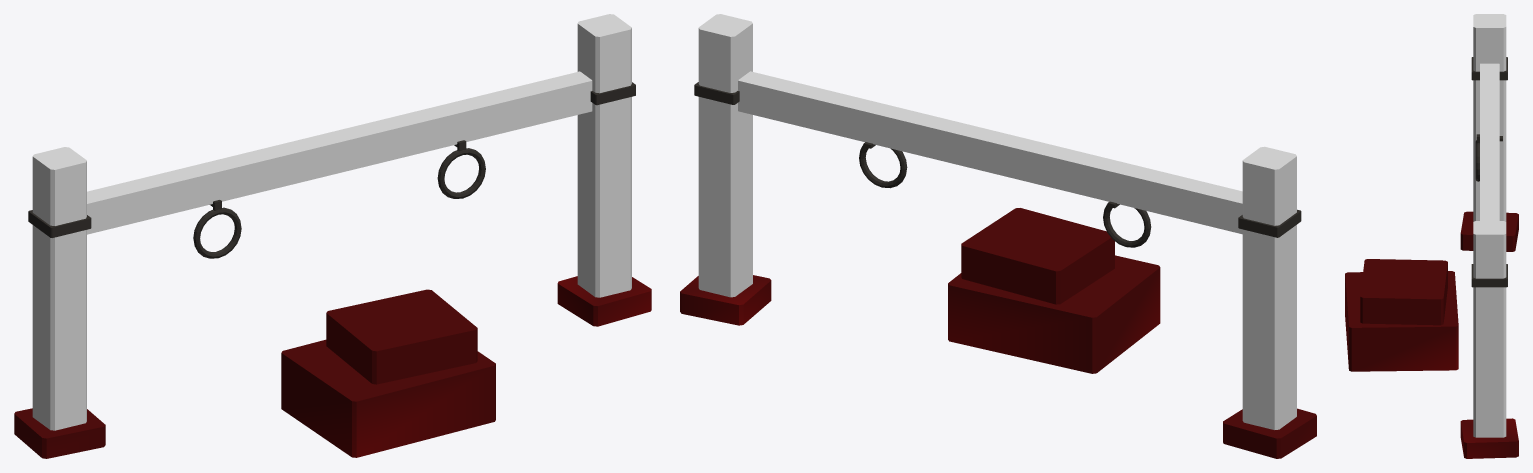
Rendered from SilverbrookPropHitchingPost.fbx.
The picture shows the model from 3 angles, left to right: view 1: azimuth 30°, elevation 25°; view 2: azimuth 150°, elevation 25°; view 3: azimuth 270°, elevation 25°; orthographic projection. The views are drawn at different scales.
Visible parts, largest first — view 1: SM_SBHitchingPost_Timber, SM_SBHitchingPost_Stone, SM_SBHitchingPost_Iron; view 2: SM_SBHitchingPost_Timber, SM_SBHitchingPost_Stone, SM_SBHitchingPost_Iron; view 3: SM_SBHitchingPost_Stone, SM_SBHitchingPost_Timber, SM_SBHitchingPost_Iron.
Part boxes in pixels (x1,y1,x2,y2): SM_SBHitchingPost_Timber: (32,14,631,430); SM_SBHitchingPost_Stone: (14,276,651,458); SM_SBHitchingPost_Iron: (28,82,635,258); SM_SBHitchingPost_Timber: (698,14,1296,429); SM_SBHitchingPost_Stone: (680,208,1316,458); SM_SBHitchingPost_Iron: (694,82,1301,247); SM_SBHitchingPost_Stone: (1345,211,1518,458); SM_SBHitchingPost_Timber: (1473,14,1506,437); SM_SBHitchingPost_Iron: (1471,57,1507,287).
Size of the model in its own units: 250 by 110 by 79.11.
